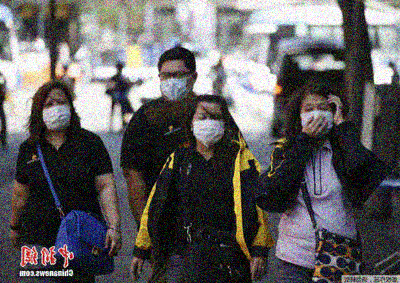with_mask: (299, 100, 335, 137), (193, 110, 225, 148), (40, 95, 73, 130), (160, 67, 192, 102)
